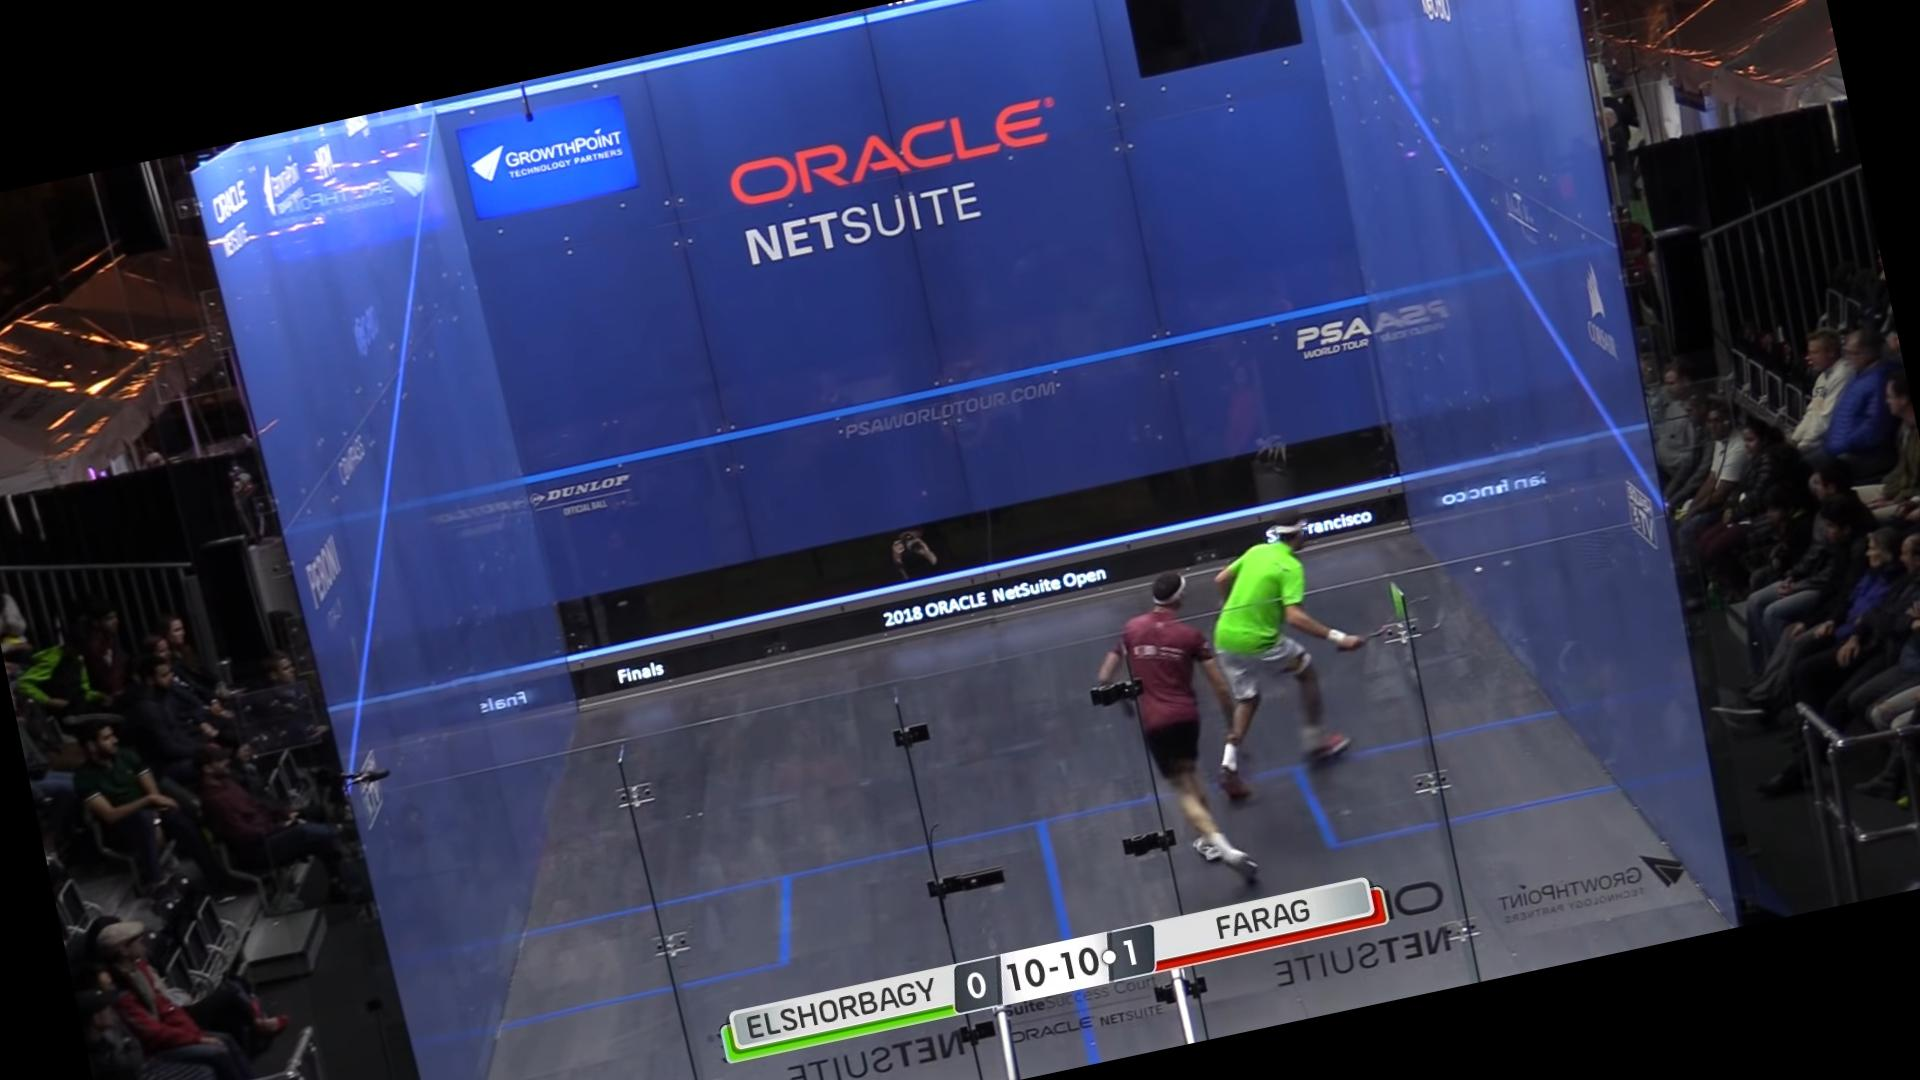Squash-Ball: (1466, 554, 1491, 589)
